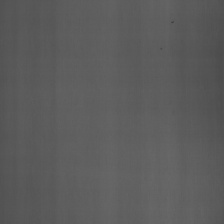inclusion: (157, 41, 165, 56), (168, 16, 175, 25)
